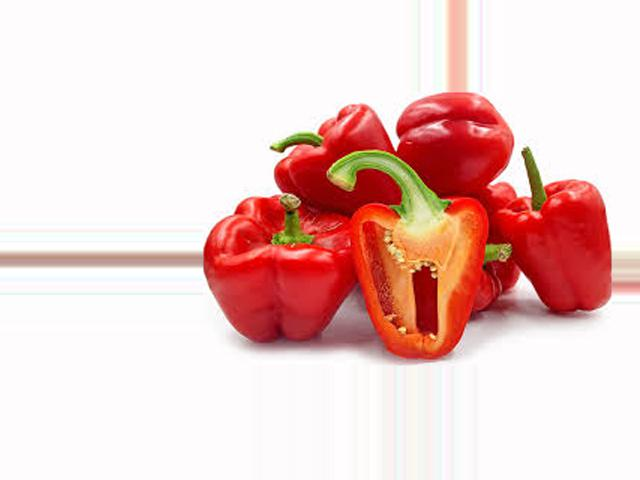bell_pepper: (268, 102, 398, 205)
